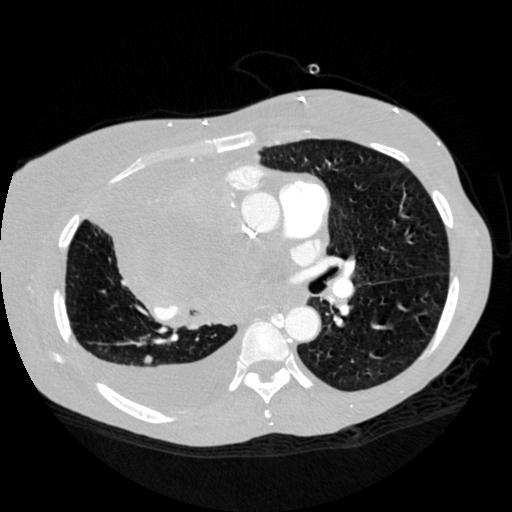nodule: (141, 352, 156, 367)
